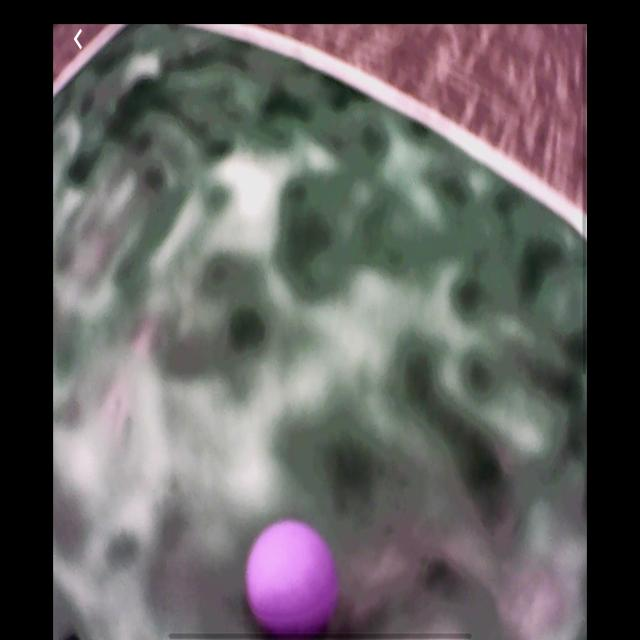ball: (245, 519, 340, 636)
